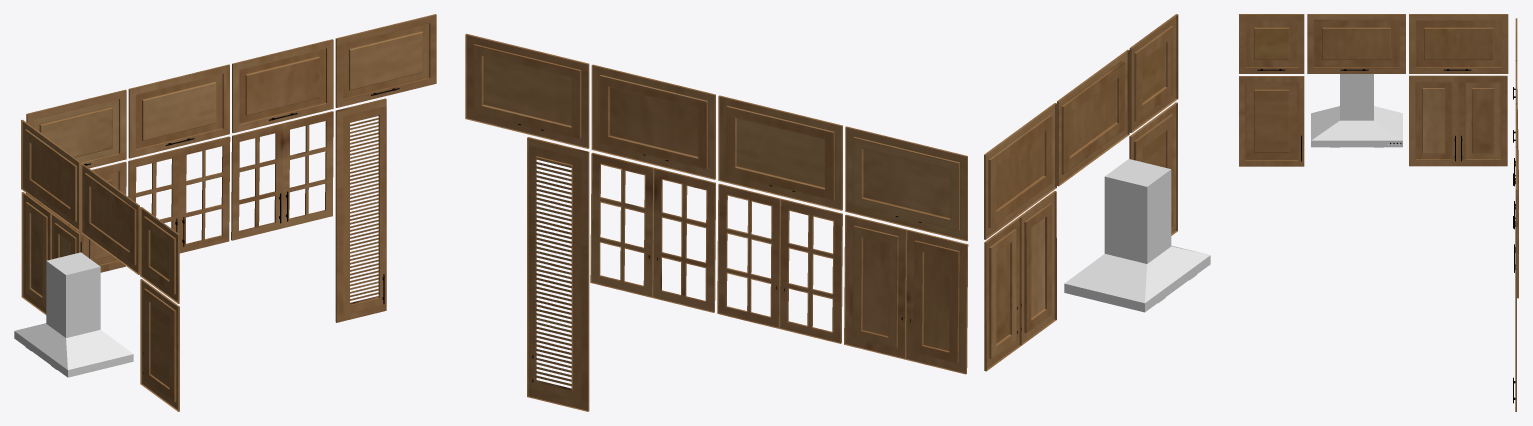
The model's file is cabinfrontw1.gltf.
3 views of the same model, side by side, from view 1: azimuth 30°, elevation 25°; view 2: azimuth 150°, elevation 25°; view 3: azimuth 270°, elevation 25° (orthographic). The views are drawn at different scales.
Visible parts, largest first — view 1: 17; view 2: 17; view 3: 17.
Part boxes in pixels (left/top/right/bottom): 17: left=14, top=14, right=436, bottom=411; 17: left=465, top=14, right=1210, bottom=411; 17: left=1239, top=14, right=1518, bottom=411.
Size of the model in its own units: 14.17 by 7.87 by 8.2.
Materials: 1 (1 with a texture image).
